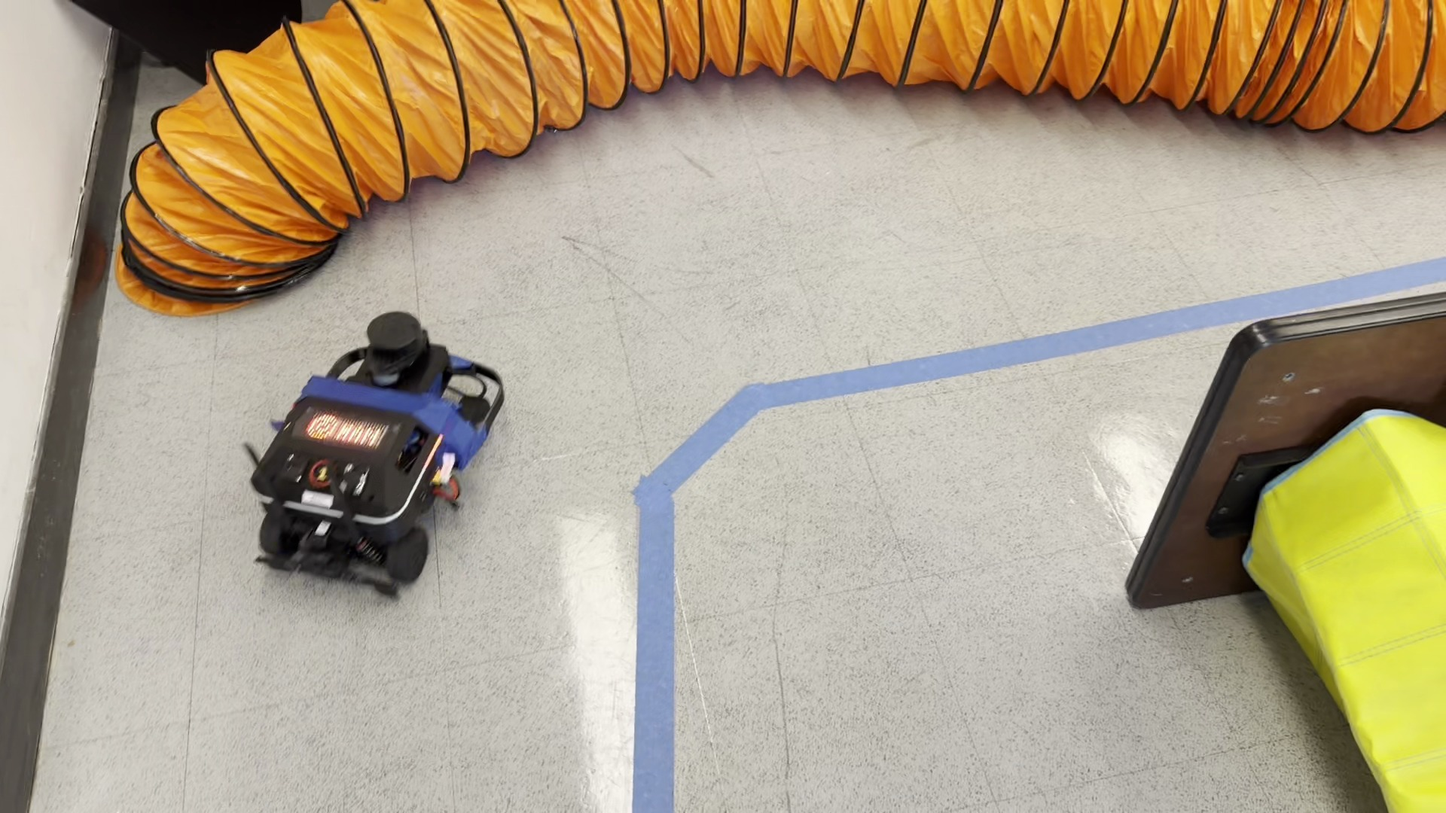racecar: (249, 307, 505, 595)
